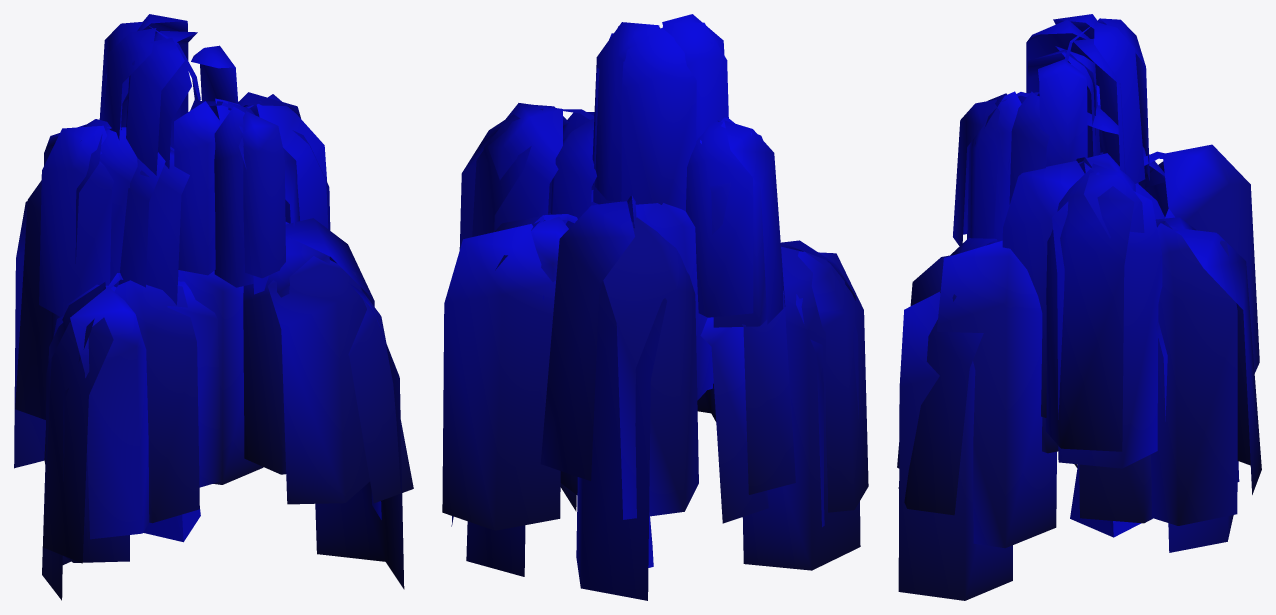
Rendered from Liushu01.fbx.
3 renders of one model, left to right at view 1: azimuth 30°, elevation 25°; view 2: azimuth 150°, elevation 25°; view 3: azimuth 270°, elevation 25°, orthographic. The views are drawn at different scales.
Parts seen in each view (by area): view 1: liushu; view 2: liushu; view 3: liushu.
Part boxes in pixels (x1,y1,x2,y2): liushu: [14, 14, 413, 600]; liushu: [442, 14, 868, 600]; liushu: [897, 14, 1261, 600].
Size of the model in its own units: 895 by 1382 by 908.
